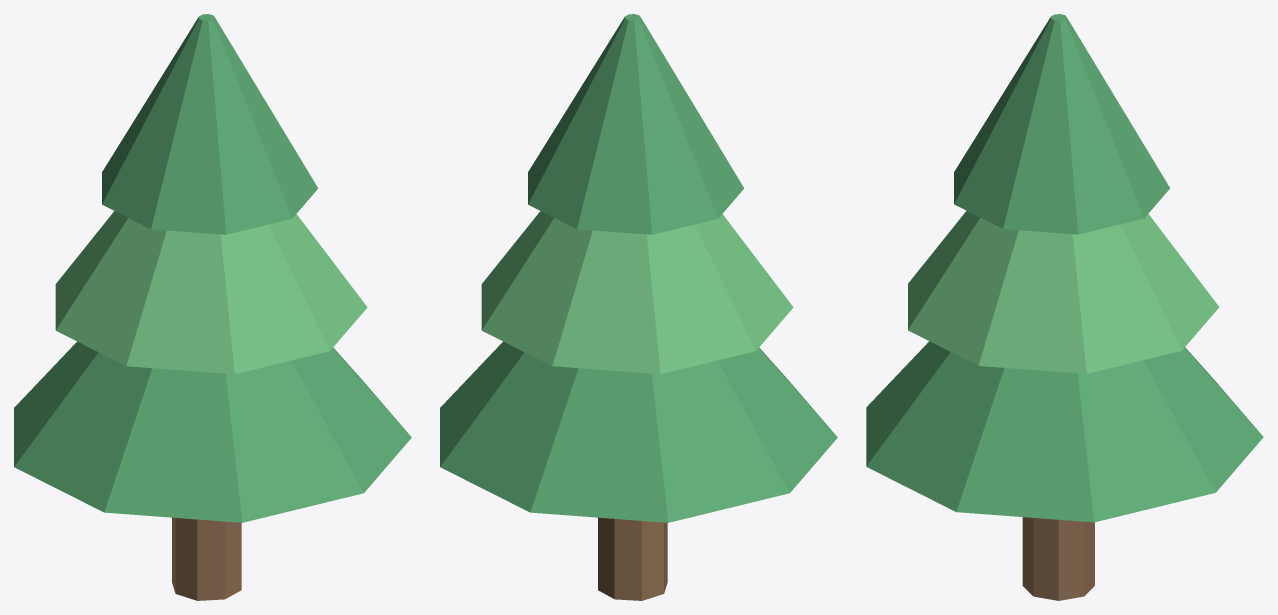
The model's file is tree_nature.glb.
The picture shows the model from 3 angles, left to right: view 1: azimuth 30°, elevation 25°; view 2: azimuth 150°, elevation 25°; view 3: azimuth 270°, elevation 25°; orthographic projection.
Parts seen in each view (by area): view 1: Cone, Cone.001, Cone.002, Cylinder; view 2: Cone, Cone.001, Cone.002, Cylinder; view 3: Cone, Cone.001, Cone.002, Cylinder.
Part boxes in pixels (x1,y1,x2,y2): Cone: (14,341,411,522); Cone.001: (55,211,367,374); Cone.002: (102,14,318,234); Cylinder: (172,517,241,600); Cone: (440,341,837,522); Cone.001: (481,211,793,374); Cone.002: (528,14,744,234); Cylinder: (598,517,667,600); Cone: (866,341,1263,522); Cone.001: (908,211,1219,373); Cone.002: (954,14,1169,234); Cylinder: (1022,517,1094,600).
Bounding box in the file's own units: 2.46 × 3.82 × 2.42.
